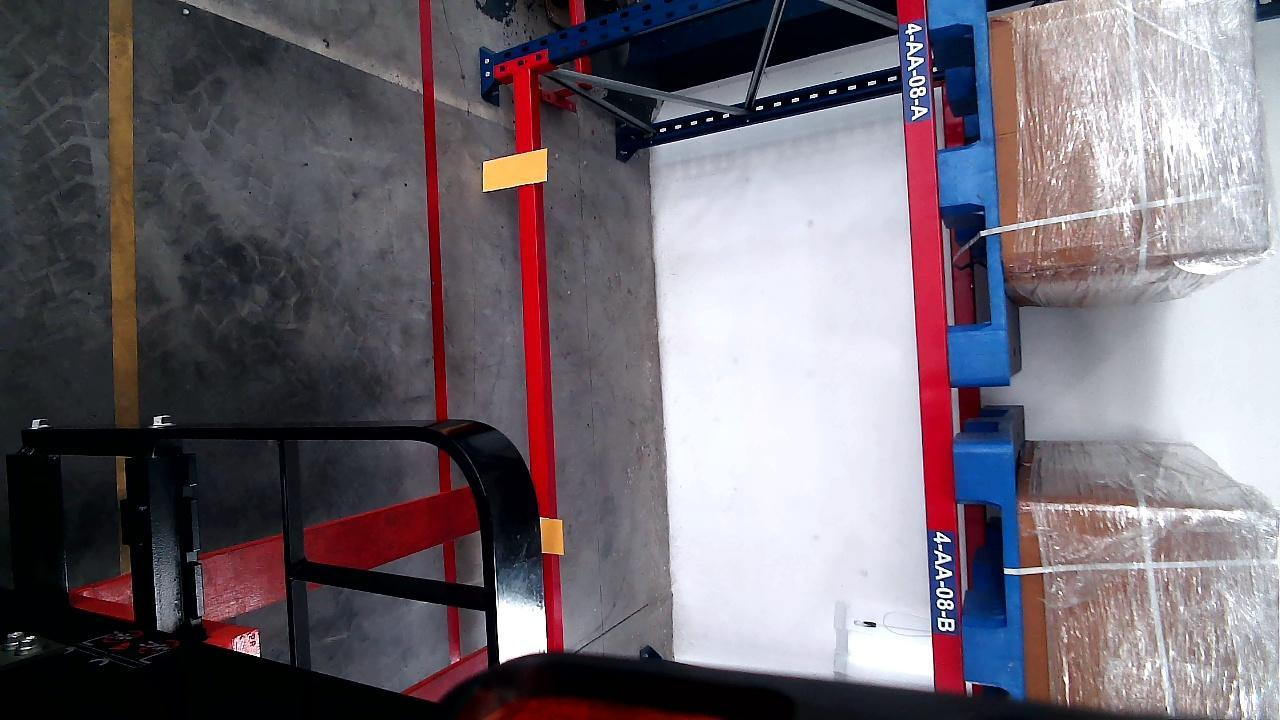red_line: (419, 0, 462, 665)
yellow_line: (109, 0, 139, 428)
